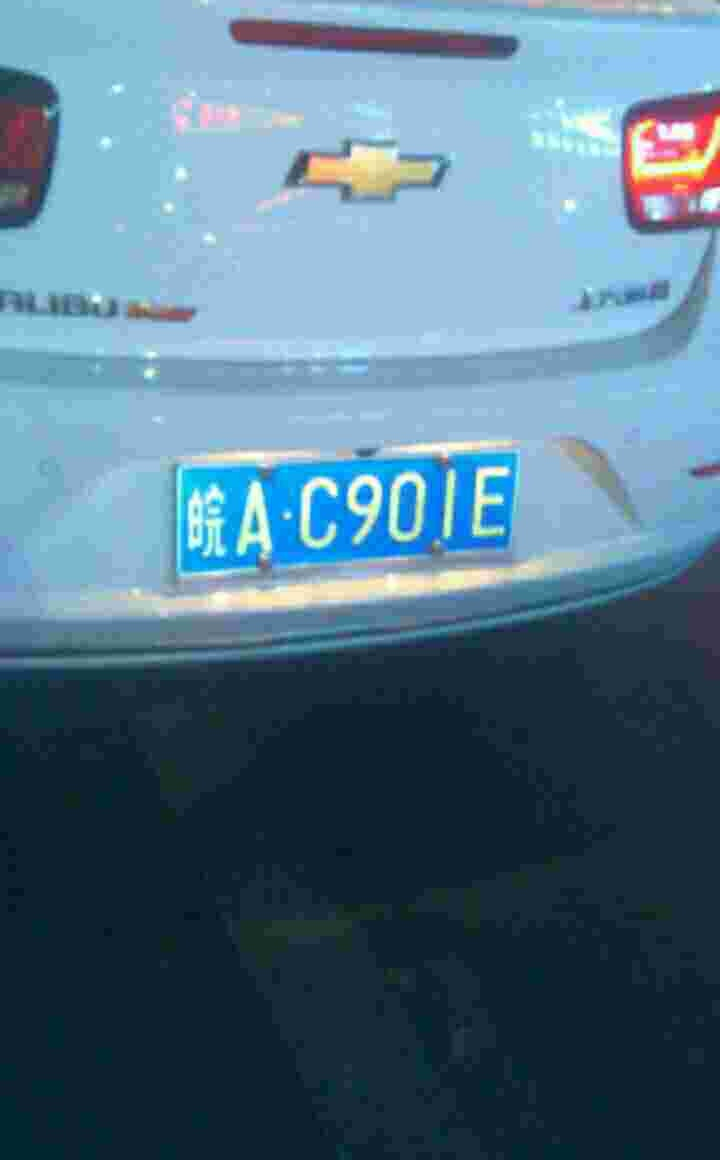license_plate: (172, 445, 510, 576)
